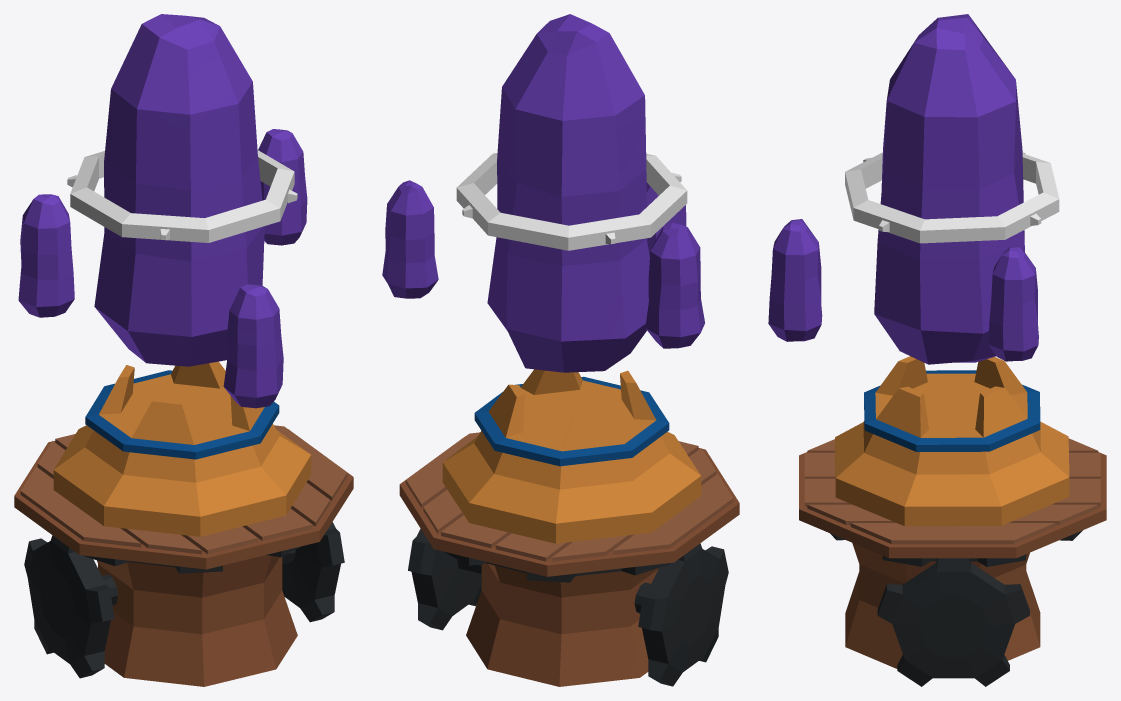
Rendered from Cristal Magico.fbx.
3 renders of one model, left to right at view 1: azimuth 30°, elevation 25°; view 2: azimuth 150°, elevation 25°; view 3: azimuth 270°, elevation 25°, orthographic. The views are drawn at different scales.
Parts seen in each view (by area): view 1: Torre de mago, MagicCrystal.001, Anillo torre de mago, MagicCrystal.003, MagicCrystal.002, MagicCrystal.005; view 2: Torre de mago, MagicCrystal.001, Anillo torre de mago, MagicCrystal.002, MagicCrystal.005, MagicCrystal.003; view 3: Torre de mago, MagicCrystal.001, Anillo torre de mago, MagicCrystal.003, MagicCrystal.005.
Part boxes in pixels (<box>): Torre de mago: <box>14,361,353,686</box>; MagicCrystal.001: <box>94,14,264,366</box>; Anillo torre de mago: <box>67,150,297,242</box>; MagicCrystal.003: <box>223,284,283,408</box>; MagicCrystal.002: <box>18,194,74,317</box>; MagicCrystal.005: <box>258,129,307,245</box>; Torre de mago: <box>399,369,739,686</box>; MagicCrystal.001: <box>487,14,649,372</box>; Anillo torre de mago: <box>456,153,687,250</box>; MagicCrystal.002: <box>645,222,704,348</box>; MagicCrystal.005: <box>382,180,438,298</box>; MagicCrystal.003: <box>646,182,686,256</box>; Torre de mago: <box>799,356,1106,686</box>; MagicCrystal.001: <box>874,14,1024,364</box>; Anillo torre de mago: <box>845,152,1059,243</box>; MagicCrystal.003: <box>768,219,822,341</box>; MagicCrystal.005: <box>988,246,1038,361</box>.
Bounding box in the file's own units: 482 × 959 × 486.
Materials: 2 (1 with a texture image).
